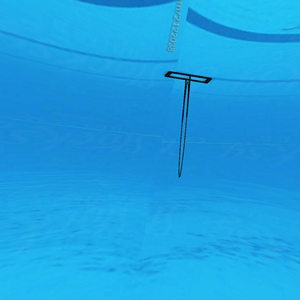circle: (163, 69, 212, 181)
